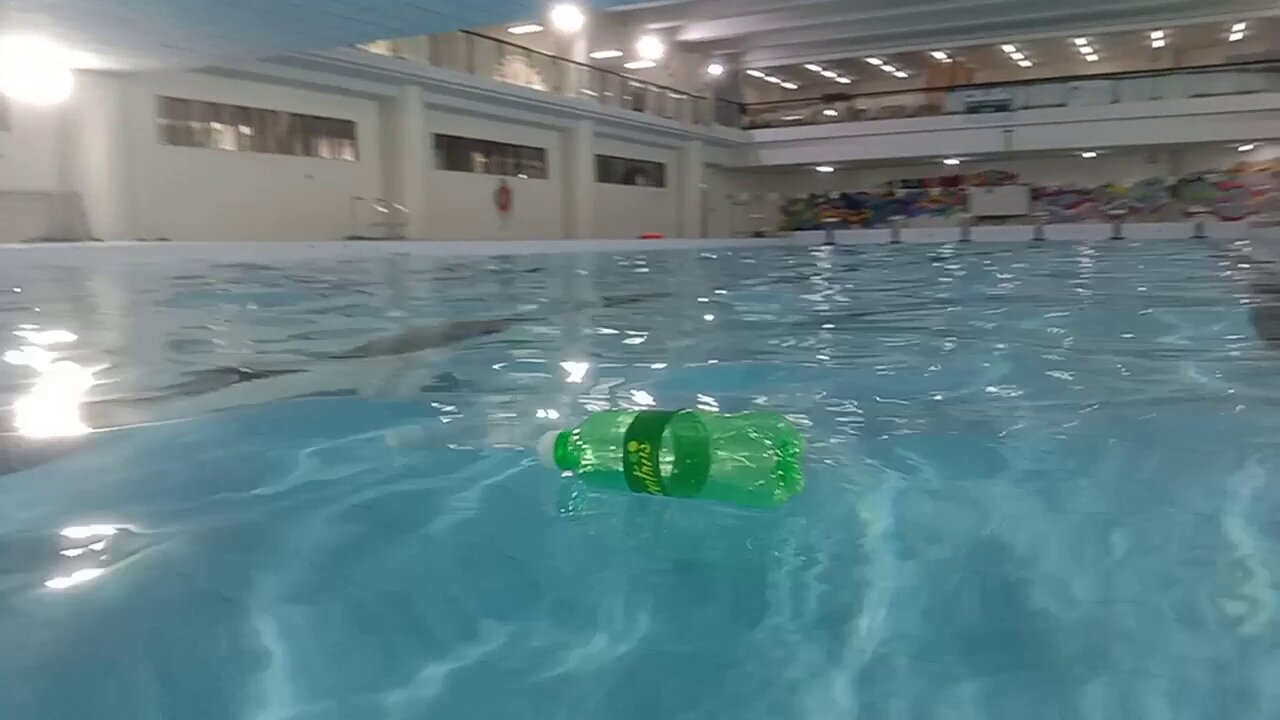plastic_bottle: (538, 410, 806, 505)
